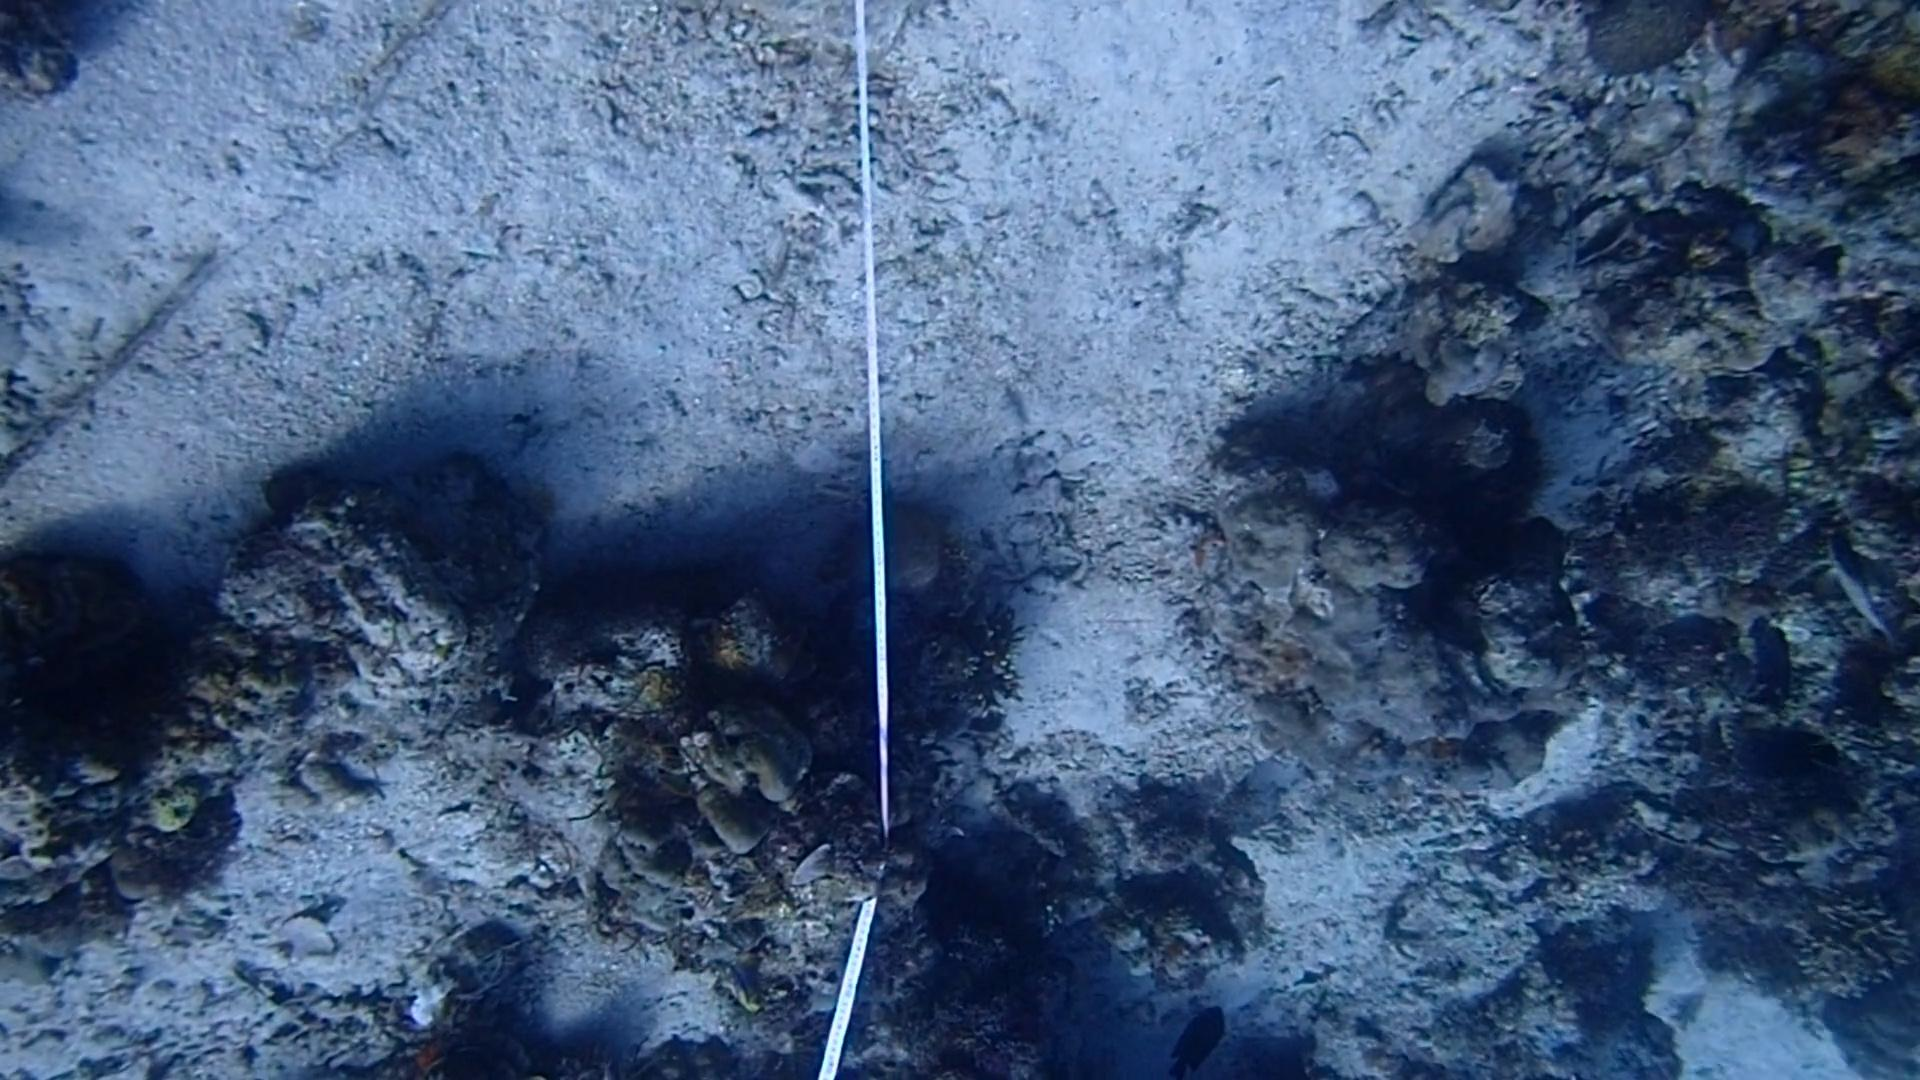Dark Fish: (1720, 723, 1850, 790), (1742, 620, 1804, 717), (1158, 1005, 1240, 1076)
